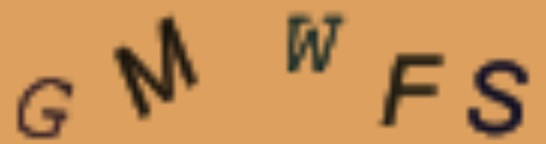F: (376, 48, 450, 130)
G: (11, 71, 75, 143)
M: (108, 12, 203, 122)
S: (462, 54, 538, 140)
W: (280, 8, 351, 76)
